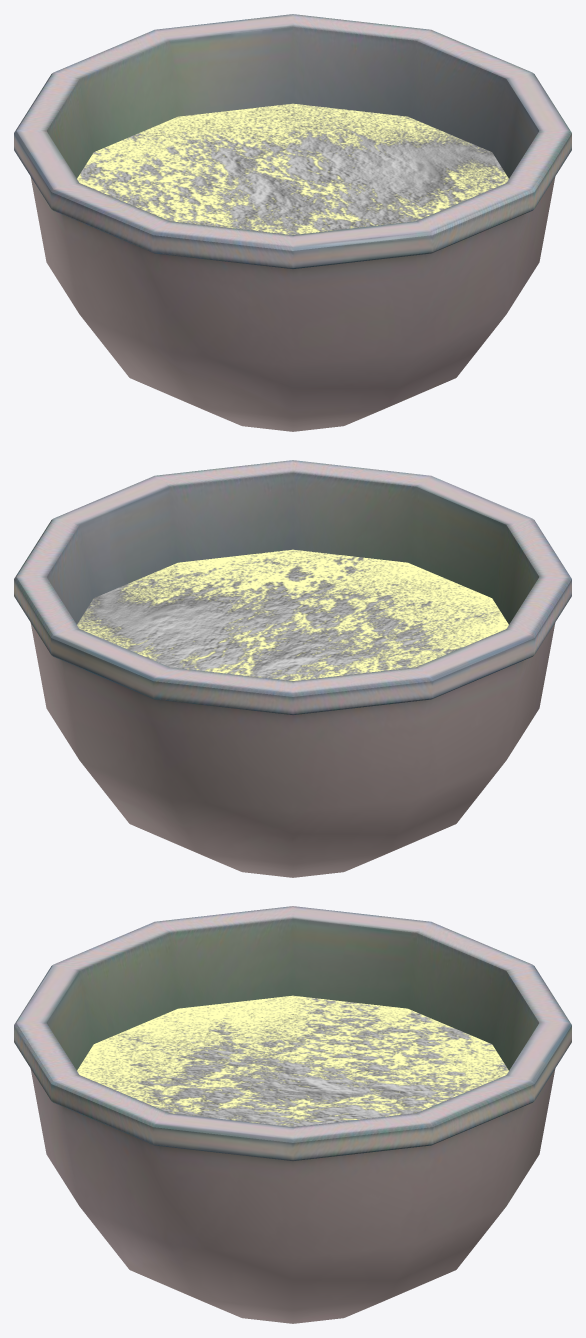
Rendered from mixingBowlFloured.glb.
The picture shows the model from 3 angles, top to bottom: view 1: azimuth 30°, elevation 25°; view 2: azimuth 150°, elevation 25°; view 3: azimuth 270°, elevation 25°; orthographic projection.
Parts seen in each view (by area): view 1: MixingBowl, Cylinder.001, Cylinder; view 2: MixingBowl, Cylinder.001, Cylinder; view 3: MixingBowl, Cylinder, Cylinder.001.
Boxes of the visible parts, bbox=[...] form: MixingBowl: bbox=[14, 14, 571, 431]; Cylinder.001: bbox=[78, 104, 508, 234]; Cylinder: bbox=[77, 103, 508, 234]; MixingBowl: bbox=[14, 460, 571, 877]; Cylinder.001: bbox=[77, 550, 506, 680]; Cylinder: bbox=[77, 549, 508, 680]; MixingBowl: bbox=[14, 906, 571, 1323]; Cylinder: bbox=[77, 995, 508, 1126]; Cylinder.001: bbox=[78, 996, 508, 1126].
Bounding box in the file's own units: 0.3931 × 0.2142 × 0.3931.
3 materials, 3 textured.
